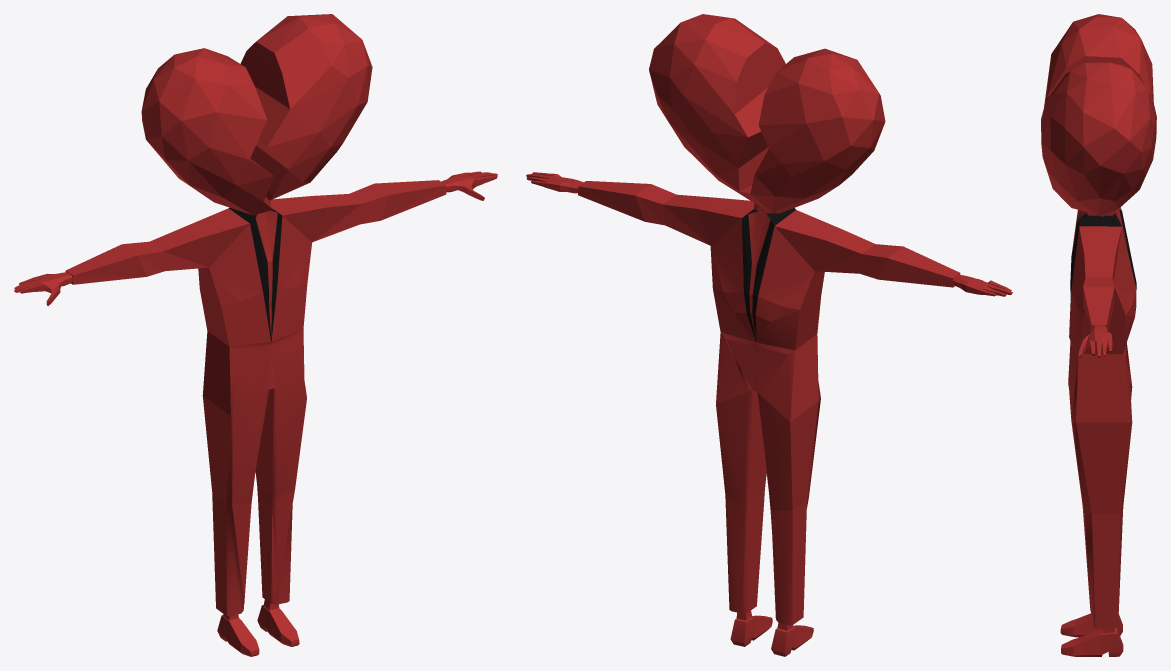
Rendered from Love.fbx.
3 renders of one model, left to right at view 1: azimuth 30°, elevation 25°; view 2: azimuth 150°, elevation 25°; view 3: azimuth 270°, elevation 25°, orthographic.
Parts seen in each view (by area): view 1: polySurface73, Love; view 2: polySurface73, Love; view 3: polySurface73, Love.
Boxes of the visible parts, left/top/right/bottom form: polySurface73: left=14, top=171, right=497, bottom=656; Love: left=141, top=14, right=372, bottom=215; polySurface73: left=526, top=172, right=1012, bottom=656; Love: left=649, top=14, right=885, bottom=213; polySurface73: left=1060, top=207, right=1136, bottom=656; Love: left=1041, top=14, right=1156, bottom=216.
Size of the model in its own units: 667 by 802 by 139.
